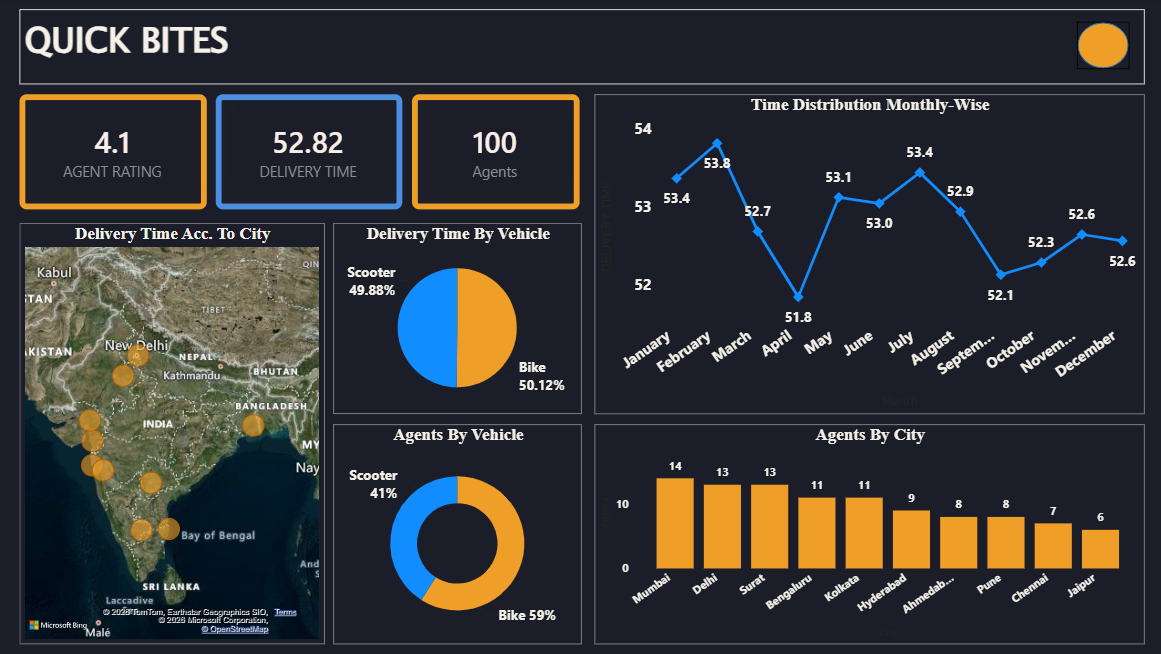

This screenshot's page, from the dashboard's own definition file:
{"tool":"powerbi","page":{"name":"AGENT REPORT","canvas":[1280,720],"ordinal":3},"visuals":[{"type":"pieChart","title":"Delivery Time By Vehicle","fields":{"Category":["DELIVERY_AGENT.Vehicle"],"Y":["FACT_ORDERS.AVG DELIVERY TIME"]},"box":[369.1,247,273.1,209.9],"z":0},{"type":"map","title":"Delivery Time Acc. To City","fields":{"Size":["FACT_ORDERS.AVG DELIVERY TIME"],"Category":["DELIVERY_AGENT.City"]},"box":[24.7,247,334.8,462.4],"z":1000},{"type":"lineChart","title":"Time Distribution Monthly-Wise ","fields":{"Y":["FACT_ORDERS.DELIVERY TIME"],"Category":["calendar.Date.Variation.Date Hierarchy.Month"]},"box":[655.9,105.7,603.8,351.3],"z":2000},{"type":"clusteredColumnChart","title":"Agents By City","fields":{"Y":["DELIVERY_AGENT.total agents"],"Category":["DELIVERY_AGENT.City"]},"box":[655.9,467.9,603.8,241.5],"z":3000},{"type":"textbox","box":[24.7,12.3,1235,82.3],"z":4000},{"type":"cardVisual","fields":{"Data":["DELIVERY_AGENT.AGENT RATING"]},"box":[24.7,105.7,205.8,126.2],"z":5000},{"type":"cardVisual","fields":{"Data":["DELIVERY_AGENT.total agents"]},"box":[455.6,105.7,183.9,126.2],"z":6000},{"type":"cardVisual","fields":{"Data":["FACT_ORDERS.DELIVERY TIME"]},"box":[240.1,105.7,204.5,126.2],"z":7000},{"type":"donutChart","title":"Agents By Vehicle","fields":{"Category":["DELIVERY_AGENT.Vehicle"],"Y":["DELIVERY_AGENT.total agents"]},"box":[369.1,467.9,273.1,241.5],"z":8000},{"type":"shape","box":[1185.6,26.1,57.6,52.1],"z":9000}]}

Visuals, with their boxes in screenshot pixels (x1, y1, x2, y2), scaled from the page's 1280x720 canvas onto the 1161x654 screenshot:
"Delivery Time By Vehicle" pieChart: (left=335, top=224, right=582, bottom=415)
"Delivery Time Acc. To City" map: (left=22, top=224, right=326, bottom=644)
"Time Distribution Monthly-Wise " lineChart: (left=595, top=96, right=1143, bottom=415)
"Agents By City" clusteredColumnChart: (left=595, top=425, right=1143, bottom=644)
textbox: (left=22, top=11, right=1143, bottom=86)
cardVisual - DELIVERY_AGENT.AGENT RATING: (left=22, top=96, right=209, bottom=211)
cardVisual - DELIVERY_AGENT.total agents: (left=413, top=96, right=580, bottom=211)
cardVisual - FACT_ORDERS.DELIVERY TIME: (left=218, top=96, right=403, bottom=211)
"Agents By Vehicle" donutChart: (left=335, top=425, right=582, bottom=644)
shape: (left=1075, top=24, right=1128, bottom=71)
